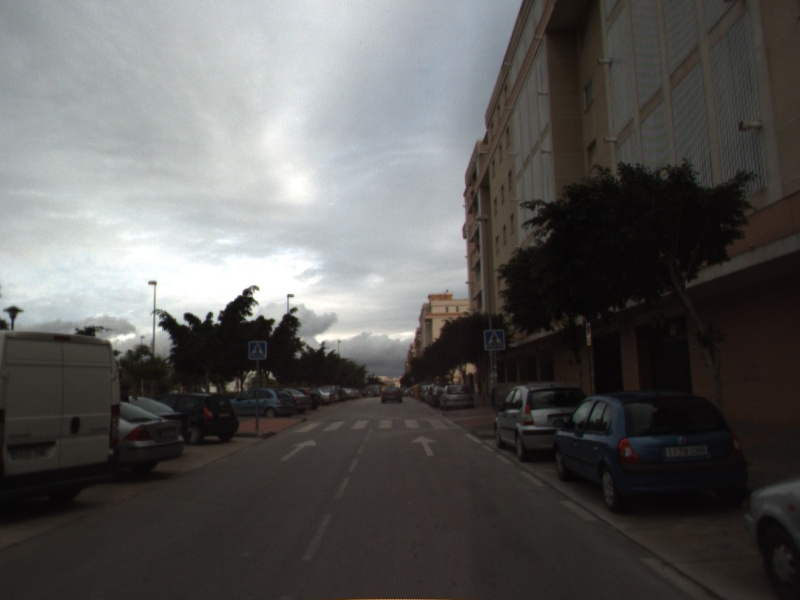STRAIGHT: (278, 437, 319, 463), (409, 433, 440, 458)
